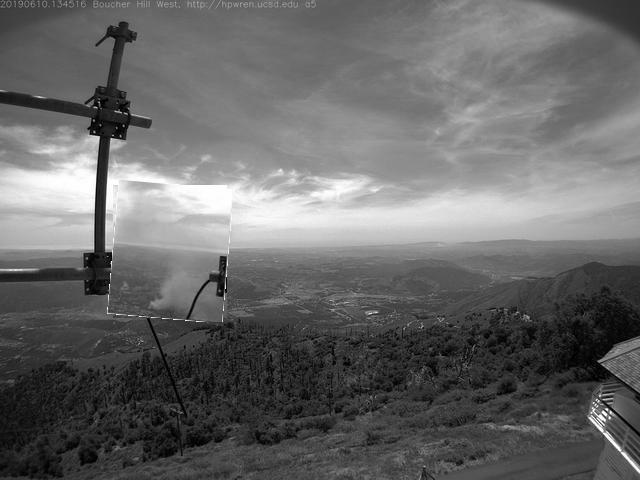smoke: (111, 184, 232, 322)
